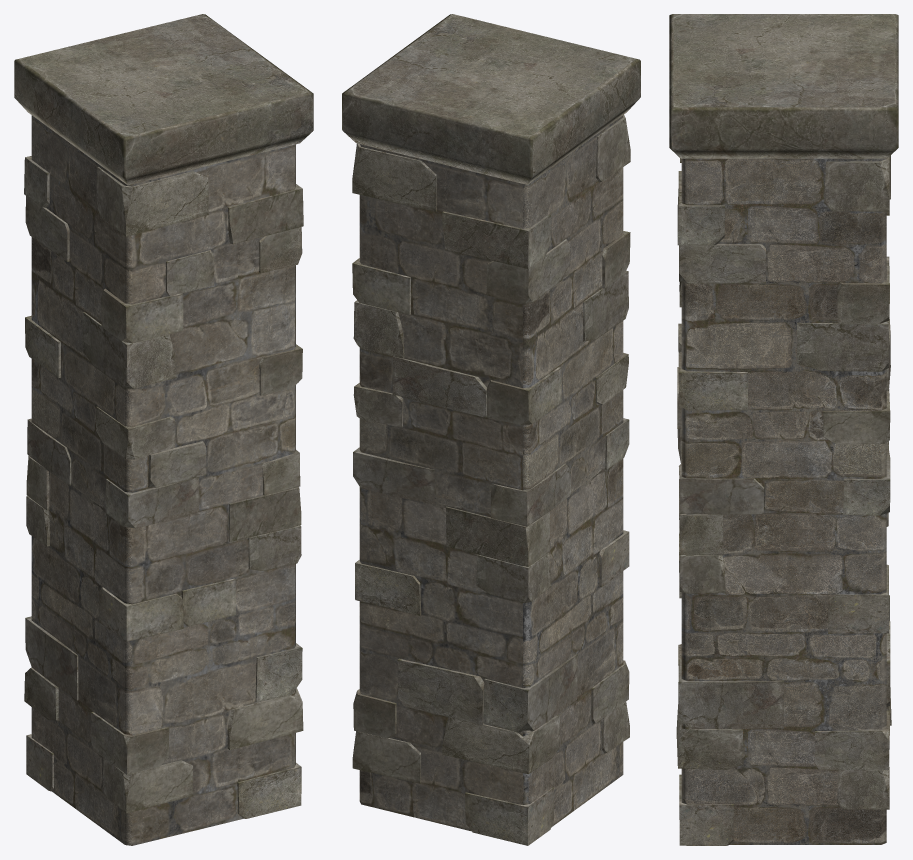
Rendered from SM_Brick_Column_02.fbx.
The picture shows the model from 3 angles, left to right: view 1: azimuth 30°, elevation 25°; view 2: azimuth 150°, elevation 25°; view 3: azimuth 270°, elevation 25°; orthographic projection. The views are drawn at different scales.
Parts seen in each view (by area): view 1: SM_Brick_Column_02_LOD0; view 2: SM_Brick_Column_02_LOD0; view 3: SM_Brick_Column_02_LOD0.
Boxes of the visible parts, x1,y1,x2,y2 form: SM_Brick_Column_02_LOD0: [14, 14, 313, 845]; SM_Brick_Column_02_LOD0: [342, 14, 640, 845]; SM_Brick_Column_02_LOD0: [669, 14, 898, 845].
Size of what is drawn, in the model's own units: 168 by 602 by 169.
Materials: 2 (2 with a texture image).
